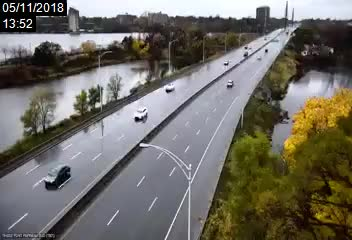personal_car: (43, 164, 71, 188), (134, 106, 149, 120), (164, 82, 176, 93), (224, 79, 236, 89), (222, 59, 230, 66)
